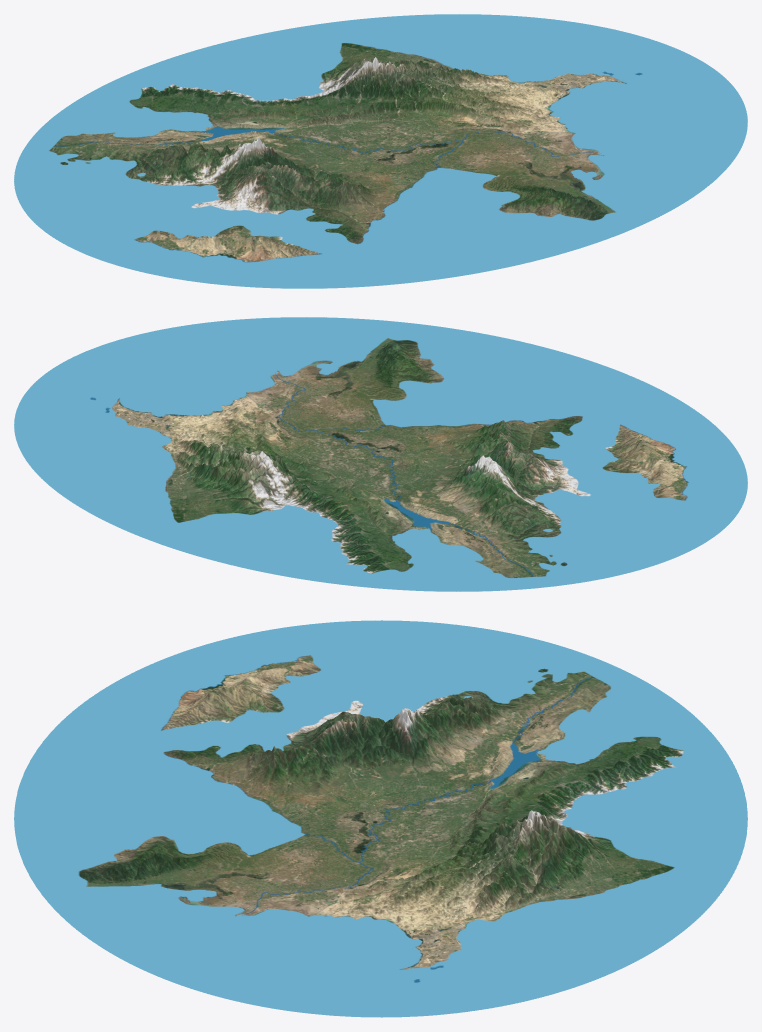
File: AZE-previa-terrain.glb
3 views of the same model, one above another, from view 1: azimuth 30°, elevation 25°; view 2: azimuth 150°, elevation 25°; view 3: azimuth 270°, elevation 25° (orthographic). The views are drawn at different scales.
Parts seen in each view (by area): view 1: Azerbaijão; view 2: Azerbaijão; view 3: Azerbaijão.
Part boxes in pixels (bbox=[...]): Azerbaijão: bbox=[14, 14, 747, 288]; Azerbaijão: bbox=[14, 317, 747, 591]; Azerbaijão: bbox=[14, 620, 747, 1017].
Size of the model in its own units: 2.14 by 0.1084 by 1.67.
Materials: 1 (1 with a texture image).
